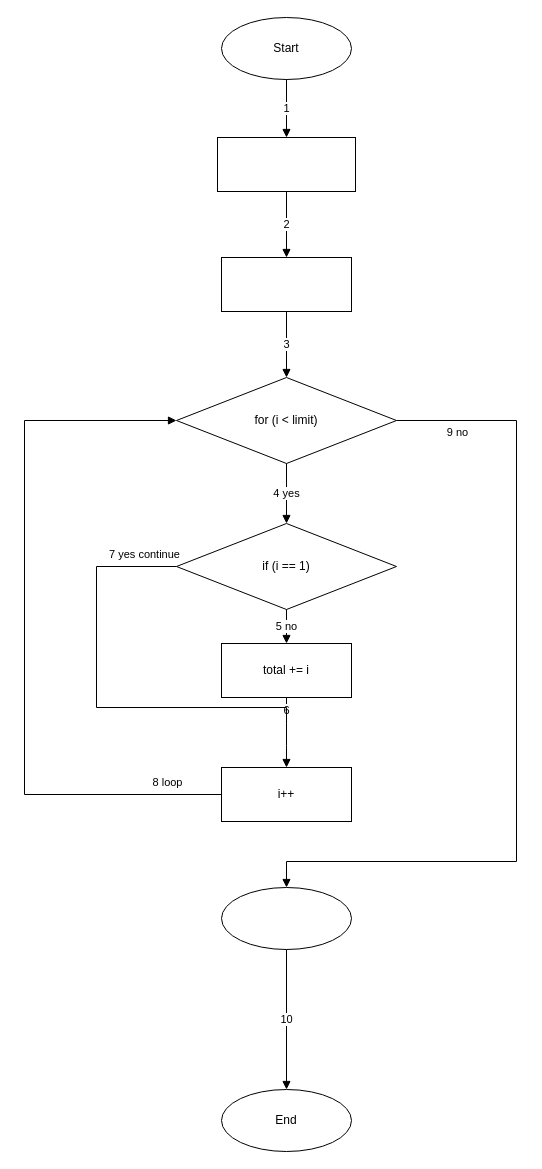
Some shapes in this 542 by 1169 pixel diagram are drawn without their labels. The shapes that lost their labels are listed below. From the top down, each one's centre as x and y in pixels, then its label:
At point (286, 164): "int total = 0".
At point (286, 284): "int i = 0".
At point (286, 918): "return total".
